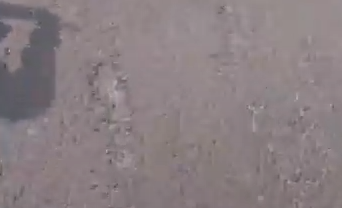Berlubang: (243, 94, 332, 208), (86, 42, 139, 194), (1, 1, 67, 121)
